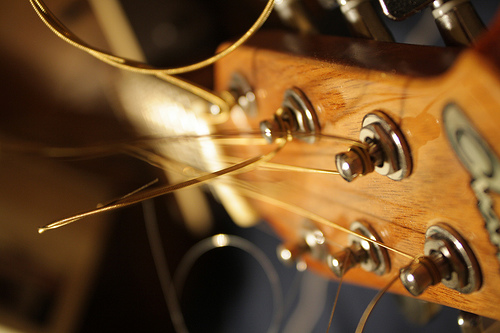guitar: (70, 1, 499, 322)
